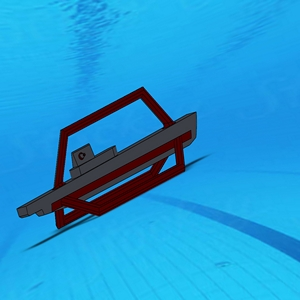submarine: (17, 85, 202, 239)
